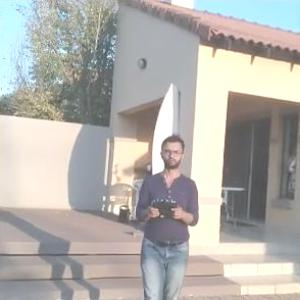follow: (132, 127, 205, 299)
